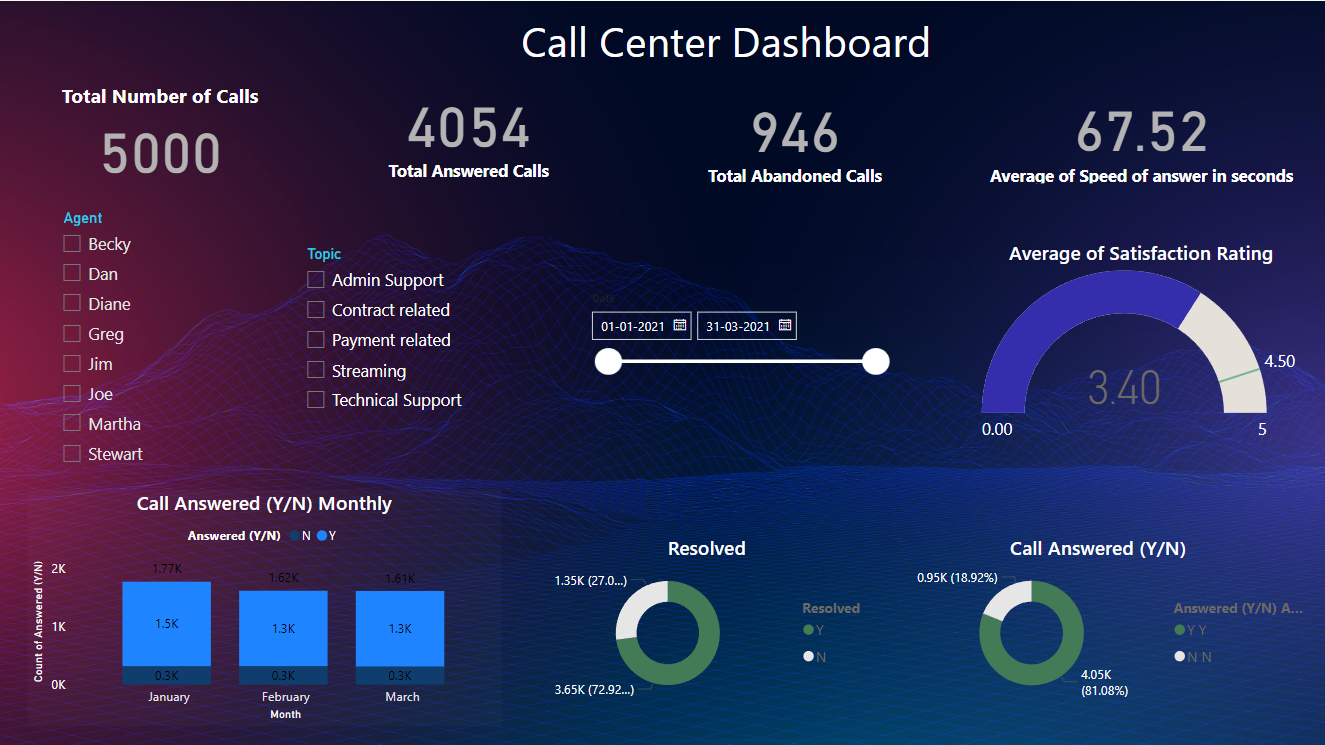

This screenshot's page, from the dashboard's own definition file:
{"tool":"powerbi","page":{"name":"Page 1","canvas":[1280,720],"ordinal":0},"visuals":[{"type":"card","title":"Total Number of Calls","fields":{"Values":["Sheet1.Answered (Y/N)"]},"box":[14.5,78.4,279.9,103.8],"z":0},{"type":"card","fields":{"Values":["Sheet1.Total Answered Calls"]},"box":[312.5,68.8,280,113.8],"z":1000},{"type":"card","fields":{"Values":["Sheet1.Total Abandoned Calls"]},"box":[627.5,78.8,280,103.8],"z":2000},{"type":"gauge","title":"Average of Satisfaction Rating","fields":{"Y":["Sheet1.Satisfaction rating"],"MaxValue":["Sheet1.Satisfaction rating"]},"box":[939.8,230.4,323.3,203.9],"z":3000},{"type":"donutChart","title":"Call Answered (Y/N)","fields":{"Category":["Sheet1.Answered (Y/N)","Sheet1.Answered (Y/N)"],"Y":["Sheet1.Answered (Y/N)"]},"box":[854.2,515.2,411.4,165.3],"z":4000},{"type":"donutChart","title":"Resolved","fields":{"Category":["Sheet1.Resolved"],"Y":["Sheet1.Resolved"]},"box":[510.3,515.2,343.8,165.3],"z":5000},{"type":"card","fields":{"Values":["Sheet1.Speed of answer in seconds"]},"box":[931.2,78.8,341.2,102.5],"z":6000},{"type":"columnChart","title":"Call Answered (Y/N) Monthly","fields":{"Category":["Sheet1.Date.Variation.Date Hierarchy.Month"],"Y":["Sheet1.Answered (Y/N)"],"Series":["Sheet1.Answered (Y/N)"]},"box":[26.5,471.7,457.2,228],"z":7000},{"type":"slicer","fields":{"Values":["Sheet1.Agent"]},"box":[48.8,195,166.2,266.2],"z":8000},{"type":"slicer","fields":{"Values":["Sheet1.Topic"]},"box":[283.5,230.4,181,195.4],"z":9000},{"type":"slicer","fields":{"Values":["Sheet1.Date"]},"box":[558.6,275.1,307.6,105],"z":10000},{"type":"textbox","title":"Call Center Dashboard","box":[439.1,10.9,523.6,67.6],"z":11000}]}

Visuals, with their boxes in screenshot pixels (x1, y1, x2, y2), scaled from the page's 1280x720 canvas onto the 1325x745 screenshot:
"Total Number of Calls" card: bbox(15, 81, 305, 189)
card - Sheet1.Total Answered Calls: bbox(323, 71, 613, 189)
card - Sheet1.Total Abandoned Calls: bbox(650, 82, 939, 189)
"Average of Satisfaction Rating" gauge: bbox(973, 238, 1308, 449)
"Call Answered (Y/N)" donutChart: bbox(884, 533, 1310, 704)
"Resolved" donutChart: bbox(528, 533, 884, 704)
card - Sheet1.Speed of answer in seconds: bbox(964, 82, 1317, 188)
"Call Answered (Y/N) Monthly" columnChart: bbox(27, 488, 501, 724)
slicer - Sheet1.Agent: bbox(51, 202, 223, 477)
slicer - Sheet1.Topic: bbox(293, 238, 481, 441)
slicer - Sheet1.Date: bbox(578, 285, 897, 393)
"Call Center Dashboard" textbox: bbox(455, 11, 997, 81)
